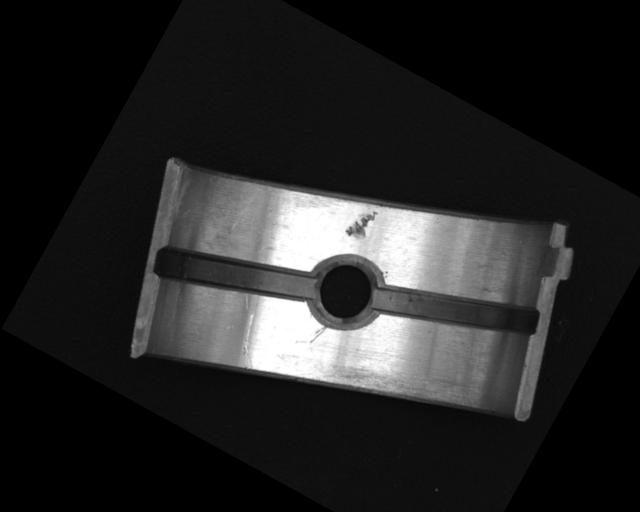bruise: (343, 202, 380, 244)
gap: (370, 239, 542, 380), (150, 208, 319, 345)
hole: (294, 245, 392, 343)
nick: (225, 310, 275, 371), (307, 321, 329, 347)
scratch: (326, 333, 468, 444)
